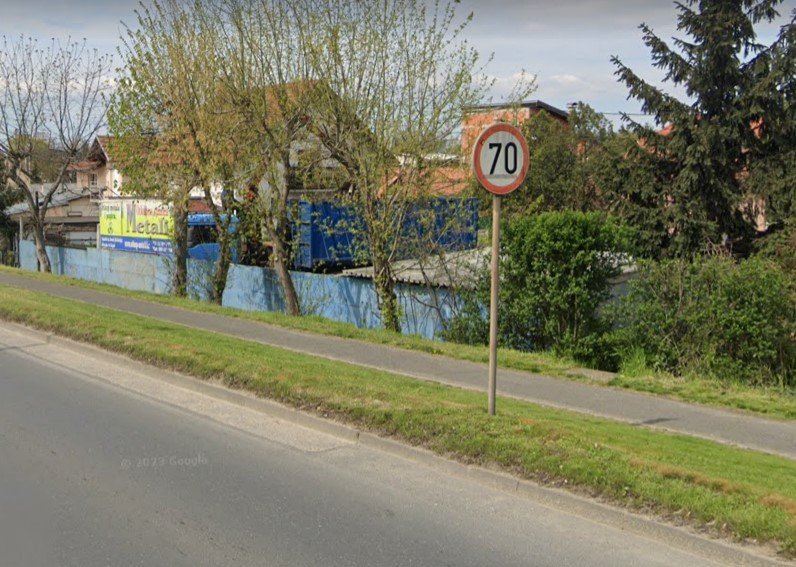Ograničenje brzine 70: (473, 124, 530, 194)
